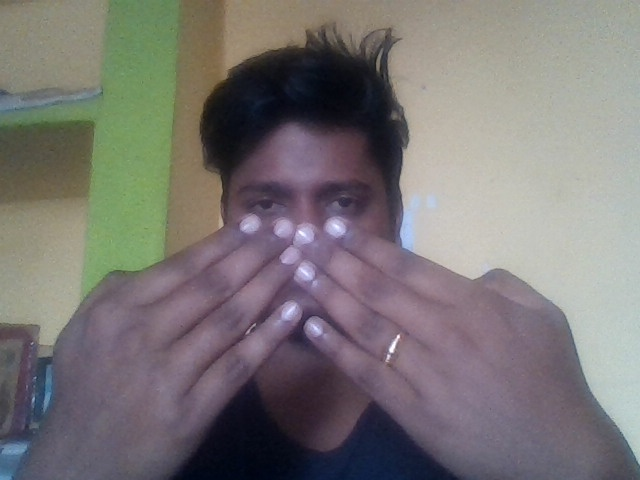thanks: (30, 202, 637, 472)
